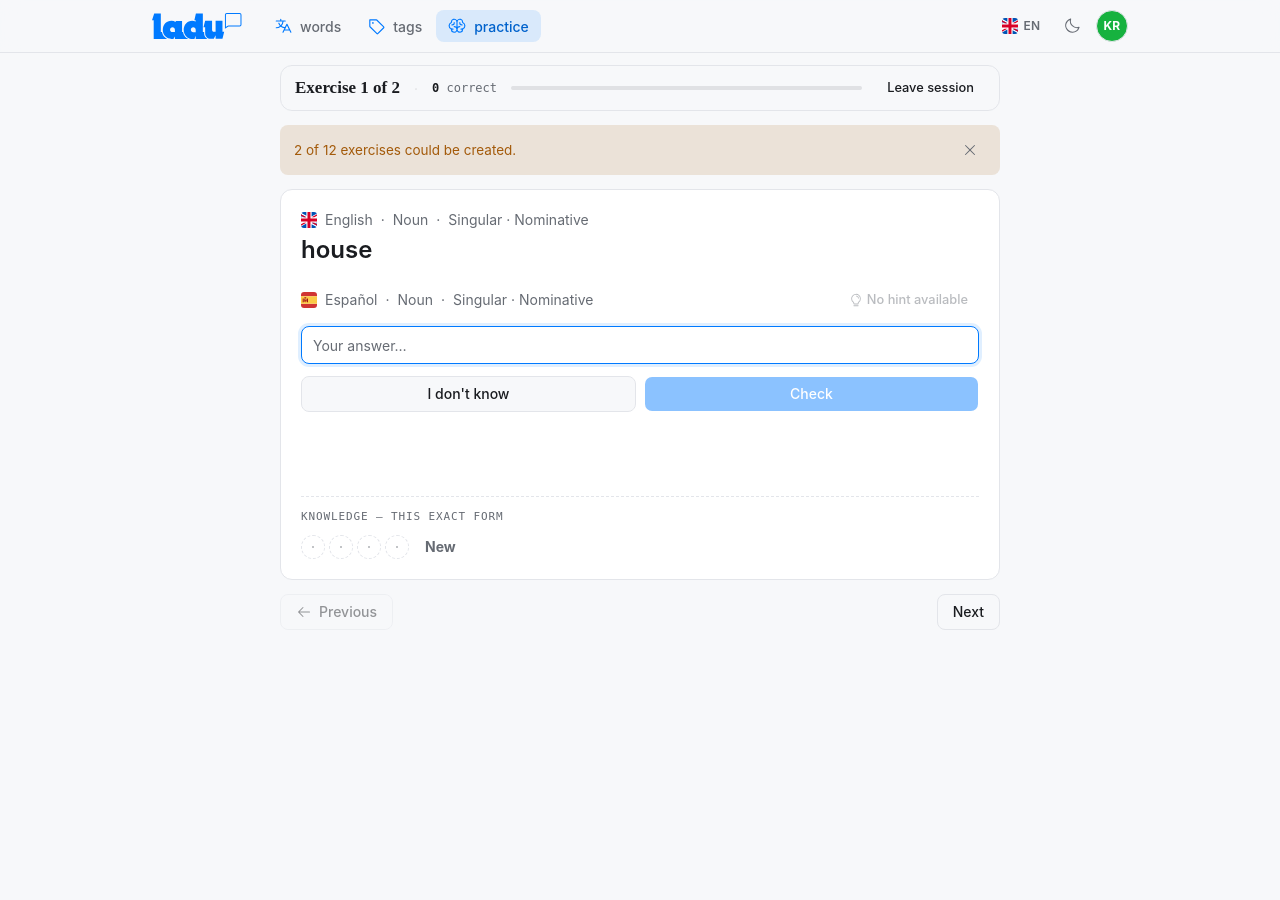
Leave dialog › has three ways out: save and leave, leave and delete, keep practicing
The image size is (1280, 900).
Click the button "Leave session".
click(931, 88)  # box [876,74,985,102]
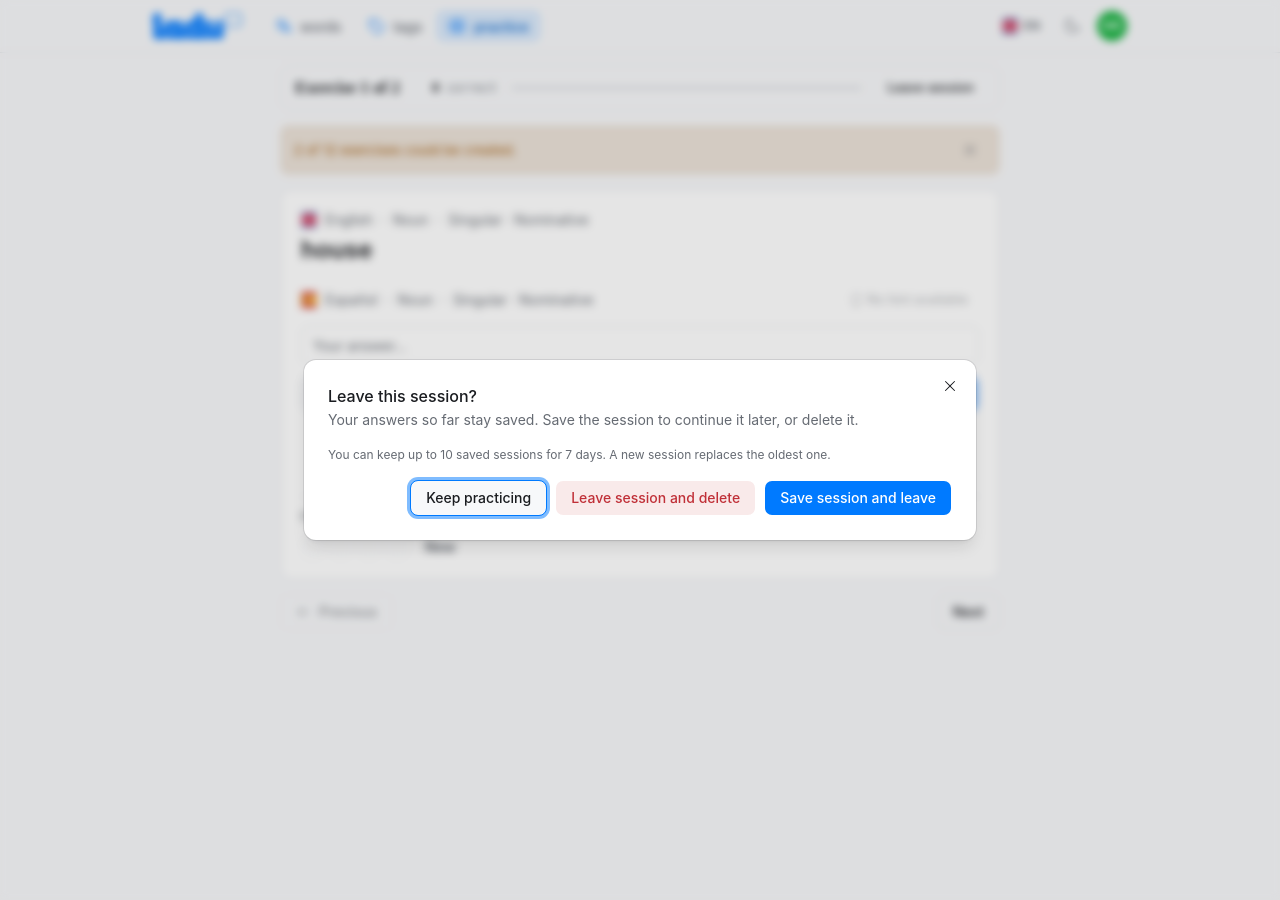
Result: the button "Save session and leave" is shown at [764,480,952,516]
Result: the button "Leave session and delete" is shown at [555,480,756,516]
Result: the button "Keep practicing" is shown at [410,480,547,516]
